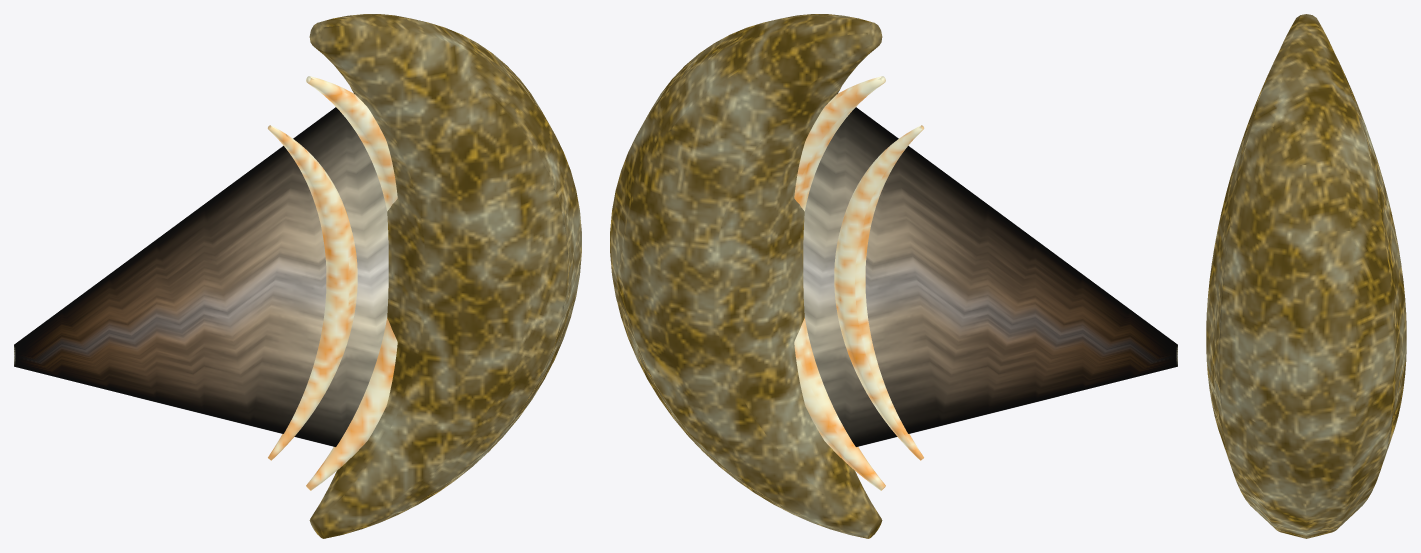
Rendered from force_shot_lv3.glb.
3 views of the same model, side by side, from view 1: azimuth 30°, elevation 25°; view 2: azimuth 150°, elevation 25°; view 3: azimuth 270°, elevation 25° (orthographic). The views are drawn at different scales.
Visible parts, largest first — view 1: f3_shell, f3_trail, f3_wake; view 2: f3_shell, f3_trail, f3_wake; view 3: f3_shell.
Boxes of the visible parts, x1,y1,x2,y2 form: f3_shell: (309,14,581,538); f3_trail: (14,93,388,446); f3_wake: (267,76,397,490); f3_shell: (610,14,882,538); f3_trail: (803,93,1177,446); f3_wake: (794,76,924,490); f3_shell: (1206,14,1406,538).
Bounding box in the file's own units: 5.25 × 4.66 × 1.7.
Materials: 4 (4 with a texture image).
